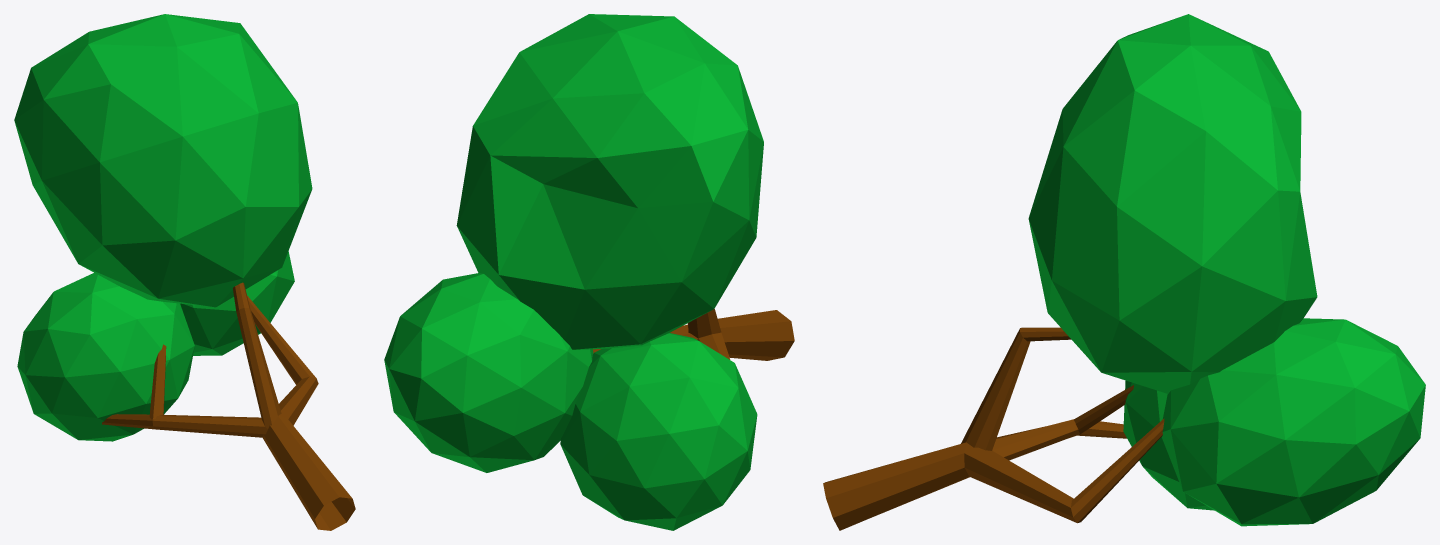
The model's file is arvore2.fbx.
The picture shows the model from 3 angles, left to right: view 1: azimuth 30°, elevation 25°; view 2: azimuth 150°, elevation 25°; view 3: azimuth 270°, elevation 25°; orthographic projection. The views are drawn at different scales.
Parts seen in each view (by area): view 1: Icosphere.001; view 2: Icosphere.001; view 3: Icosphere.001.
Part boxes in pixels (x1,y1,x2,y2): Icosphere.001: (14, 14, 355, 530); Icosphere.001: (384, 14, 794, 530); Icosphere.001: (823, 14, 1425, 530).
Size of the model in its own units: 106 by 153 by 173.
